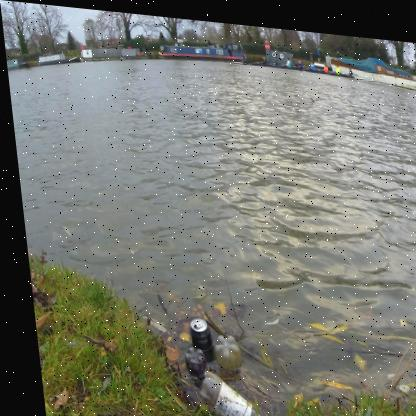Metal: (183, 315, 206, 347), (189, 318, 196, 324)
Plastic: (189, 368, 256, 416), (207, 331, 235, 366), (177, 344, 200, 375)
